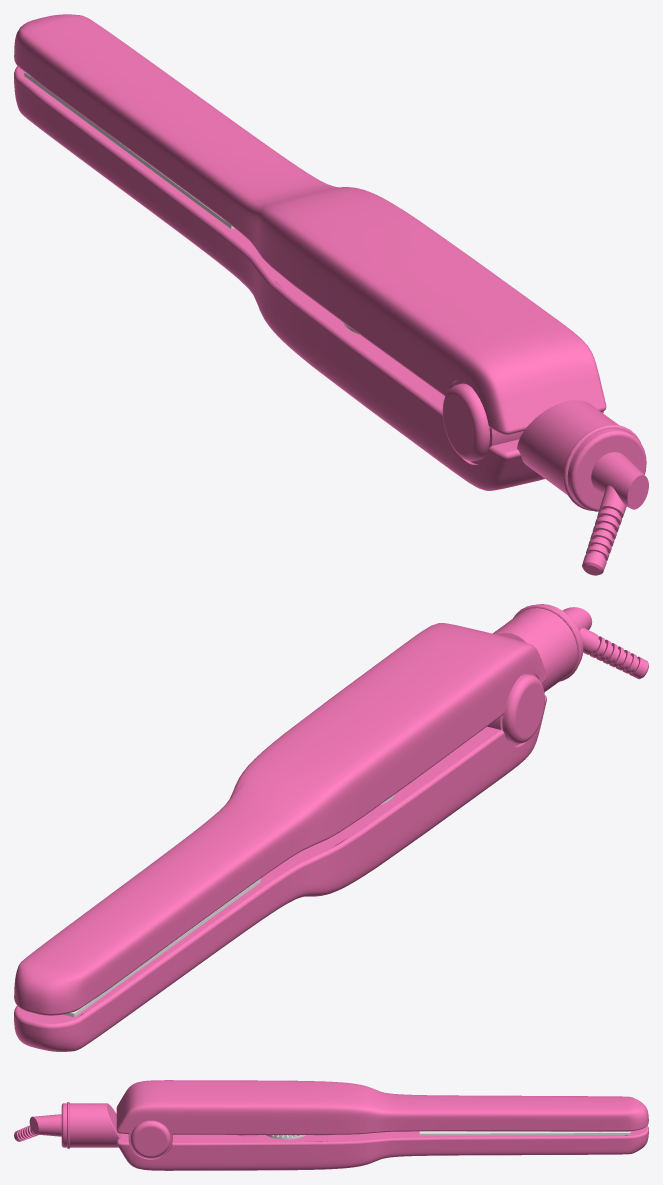
Rendered from 046_ストレートアイロン15mm閉.glb.
3 views of the same model, one above another, from view 1: azimuth 30°, elevation 25°; view 2: azimuth 150°, elevation 25°; view 3: azimuth 270°, elevation 25° (orthographic). The views are drawn at different scales.
Parts seen in each view (by area): view 1: 可動部, Body; view 2: 可動部, Body; view 3: 可動部, Body.
Part boxes in pixels (box(x1,y1,x2,y2)): 可動部: box(14, 14, 606, 464); Body: box(14, 66, 648, 575); 可動部: box(14, 623, 547, 1015); Body: box(14, 604, 648, 1051); 可動部: box(116, 1080, 648, 1158); Body: box(14, 1102, 648, 1170).
Size of the model in its own units: 0.0349 by 0.0342 by 0.2856.
